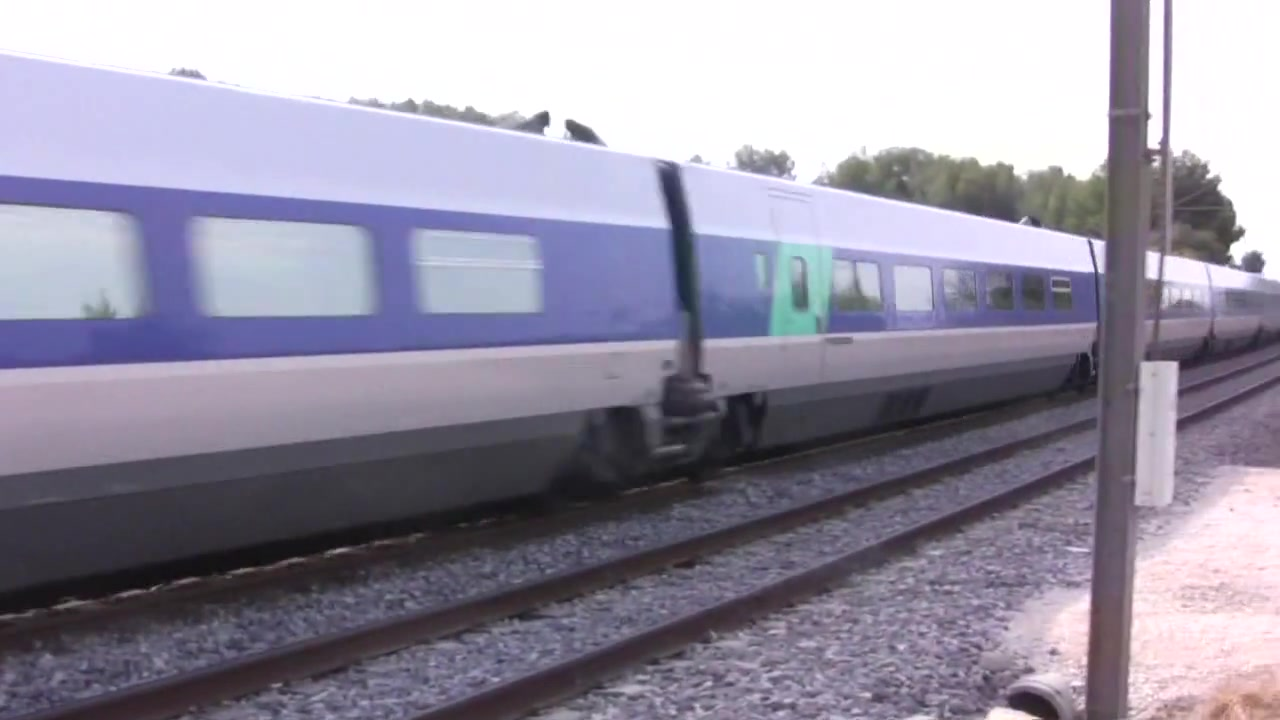train: (1, 47, 1280, 614)
